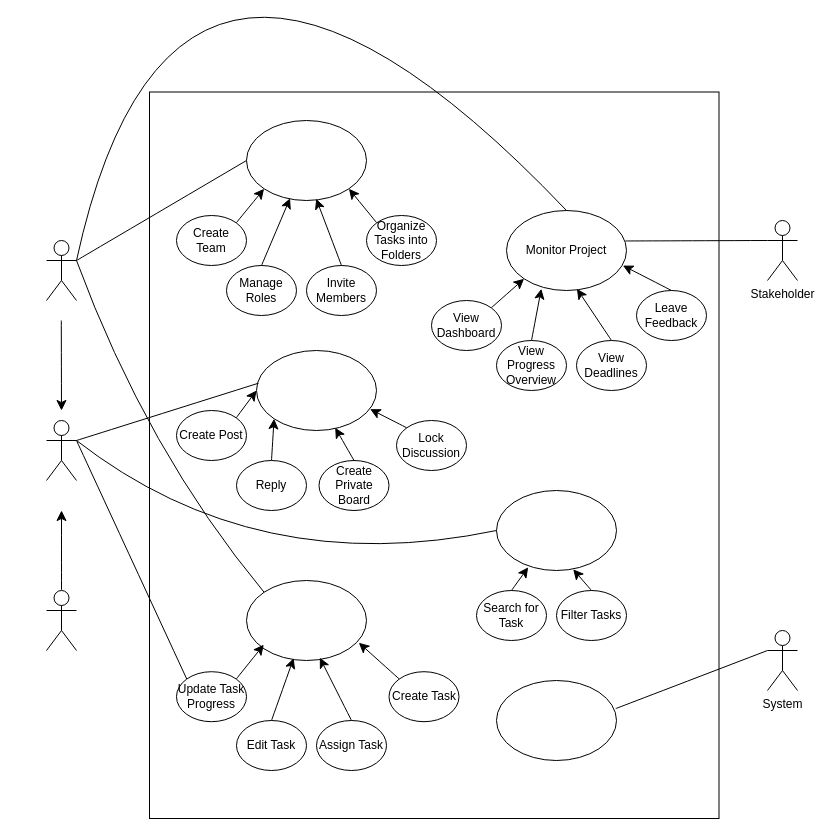
Image size: 832x837. Some labels were removed from this diagram. The centre of each missing label's shape, as x and y in pixels:
Manage Discussions: point (316, 390)
Manage Tasks: point (306, 620)
Manage Team: point (306, 160)
Project Manager: point (61, 270)
Search & Filter Tasks: point (556, 530)
Send Deadline Notification: point (556, 720)
Team Member: point (61, 620)
User: point (61, 450)
